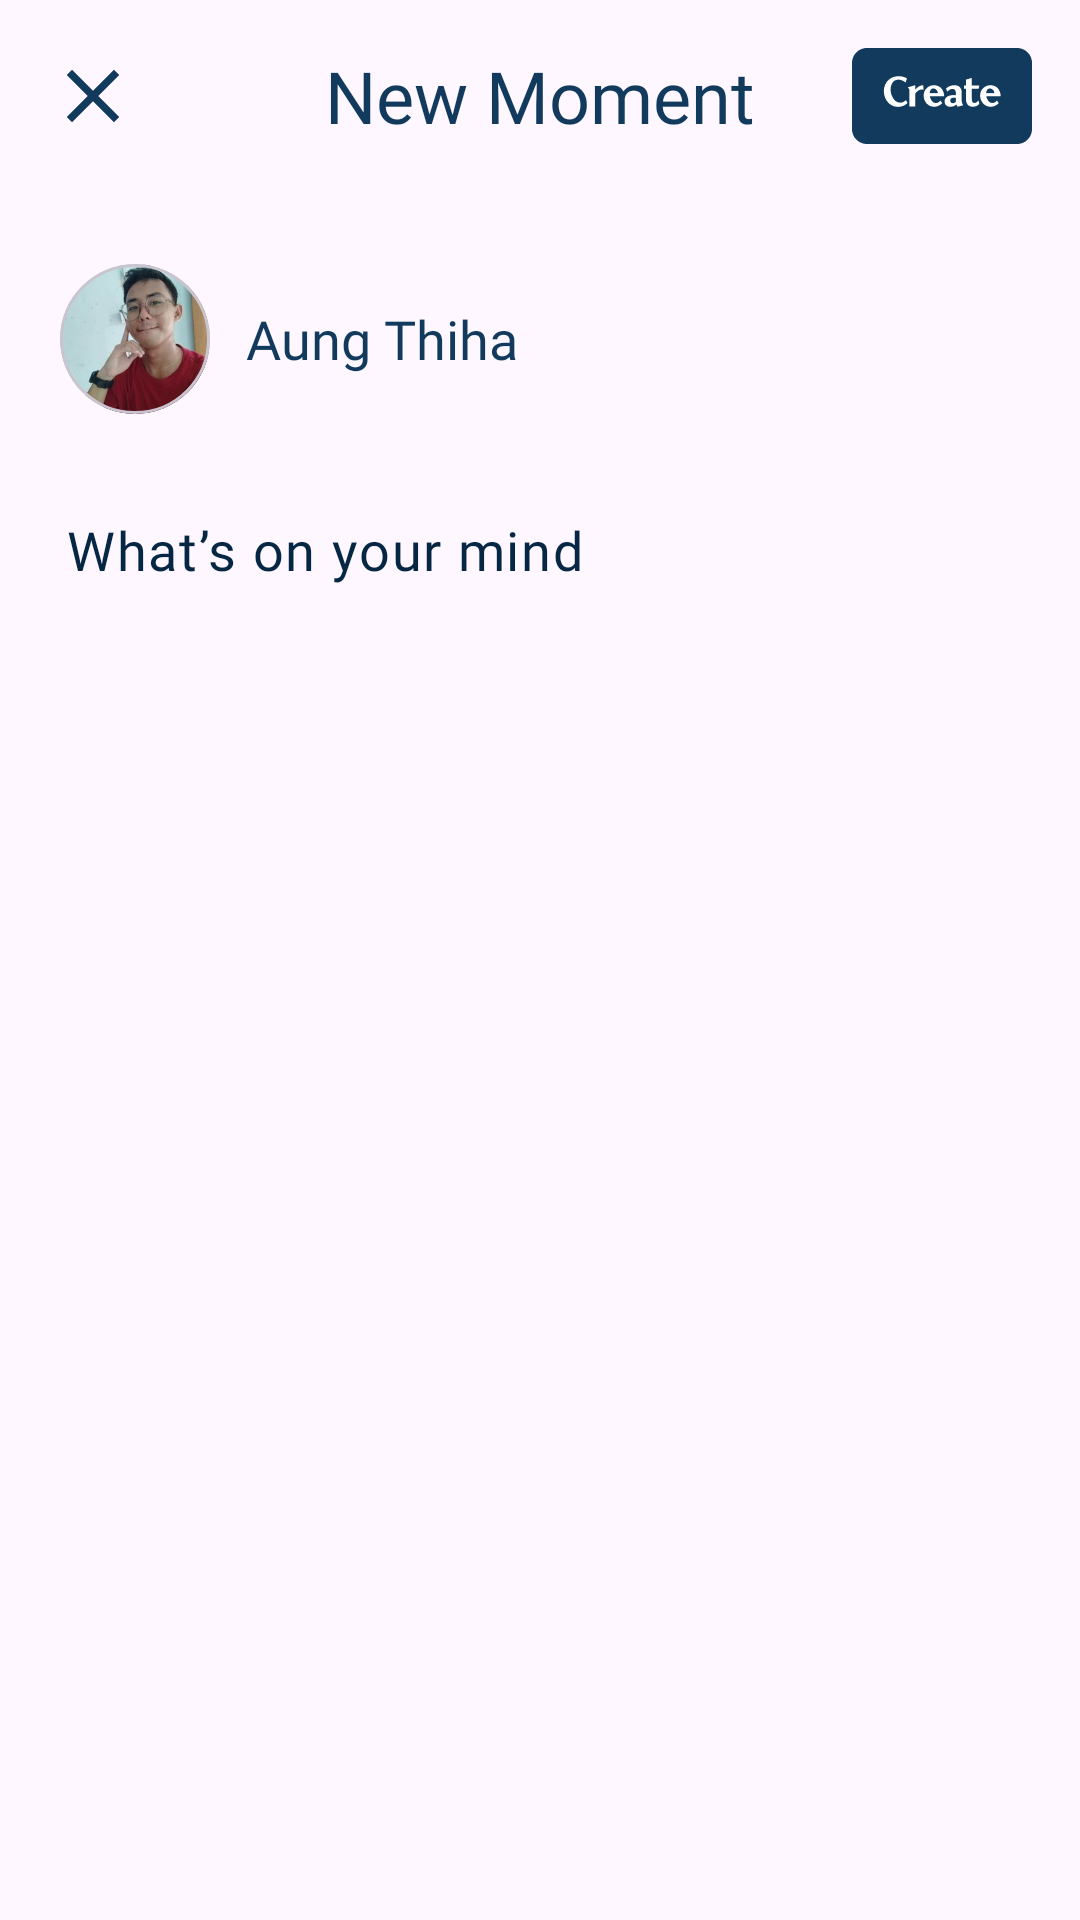

Where to tap for icons on this 1080w x 1920h app screen, as [x,y]:
ath profile: [135,339]
close: [93,96]
